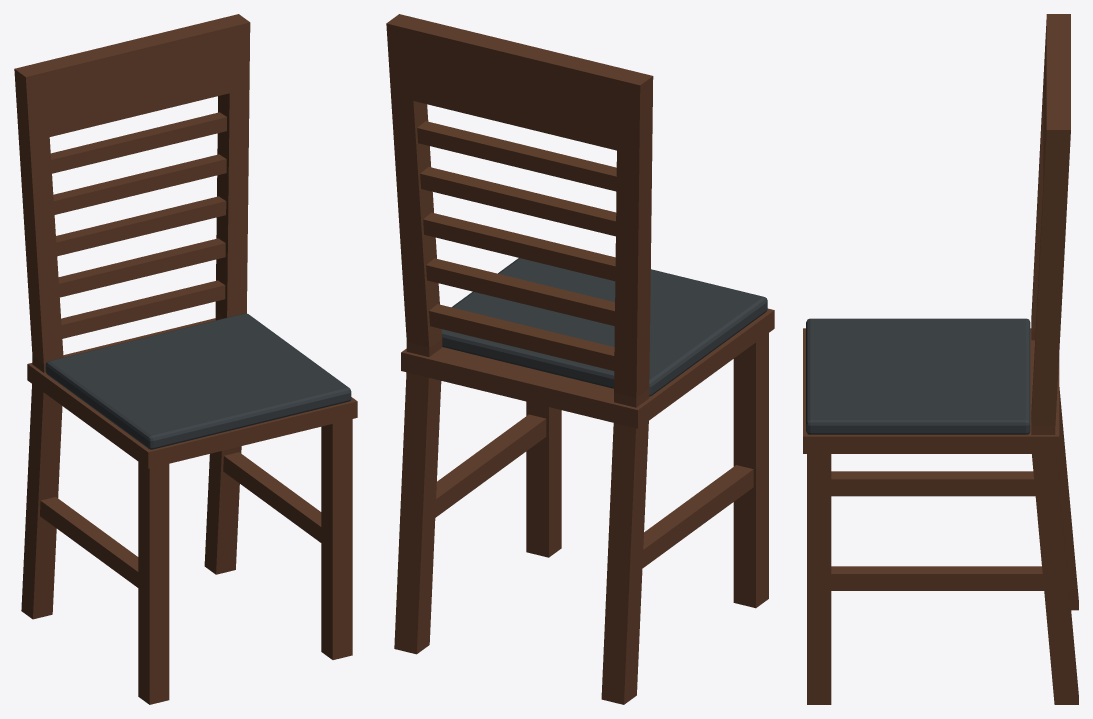
The model's file is Chair_01.fbx.
3 views of the same model, side by side, from view 1: azimuth 30°, elevation 25°; view 2: azimuth 150°, elevation 25°; view 3: azimuth 270°, elevation 25° (orthographic). The views are drawn at different scales.
Parts seen in each view (by area): view 1: Chair_01; view 2: Chair_01; view 3: Chair_01.
Part boxes in pixels (x1,y1,x2,y2): Chair_01: [14, 14, 357, 704]; Chair_01: [386, 14, 774, 704]; Chair_01: [803, 14, 1078, 704].
Bounding box in the file's own units: 42.89 × 100 × 43.04.
